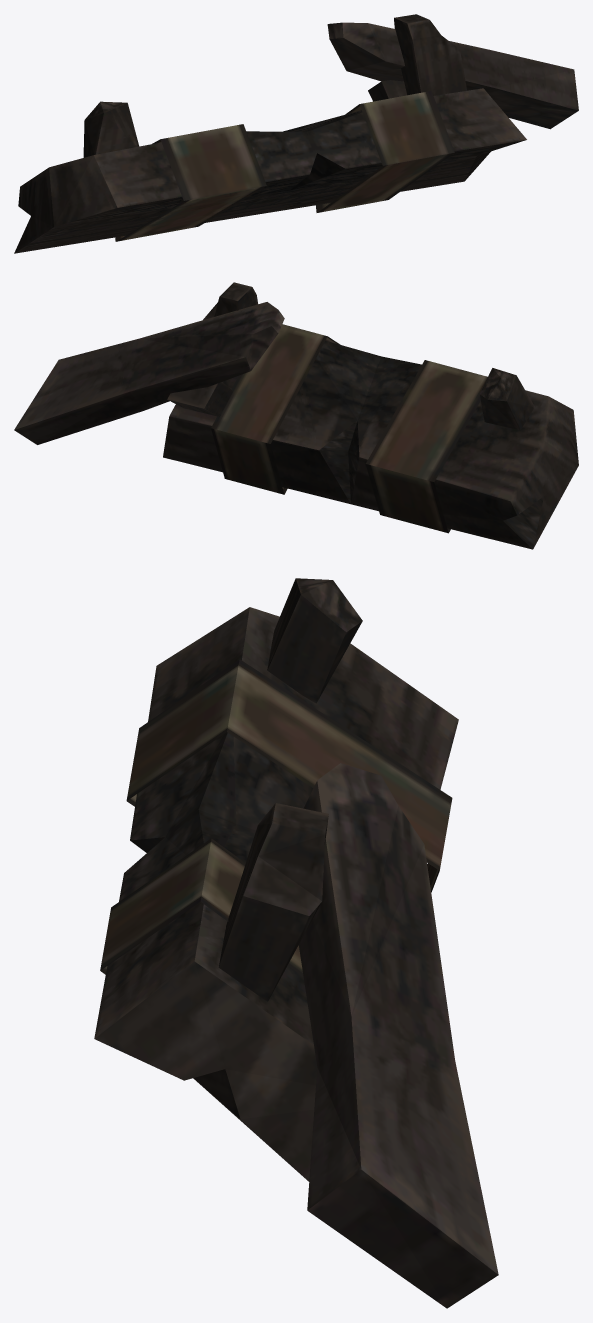
File: dwarven_bench_02.fbx
3 views of the same model, one above another, from view 1: azimuth 30°, elevation 25°; view 2: azimuth 150°, elevation 25°; view 3: azimuth 270°, elevation 25° (orthographic). The views are drawn at different scales.
Visible parts, largest first — view 1: dwarven_bench02; view 2: dwarven_bench02; view 3: dwarven_bench02.
Part boxes in pixels (x1=…): dwarven_bench02: x1=14, y1=14, x2=578, y2=253; dwarven_bench02: x1=14, y1=282, x2=578, y2=549; dwarven_bench02: x1=94, y1=578, x2=498, y2=1308.
Size of the model in its own units: 3.45 by 1.15 by 1.19.
